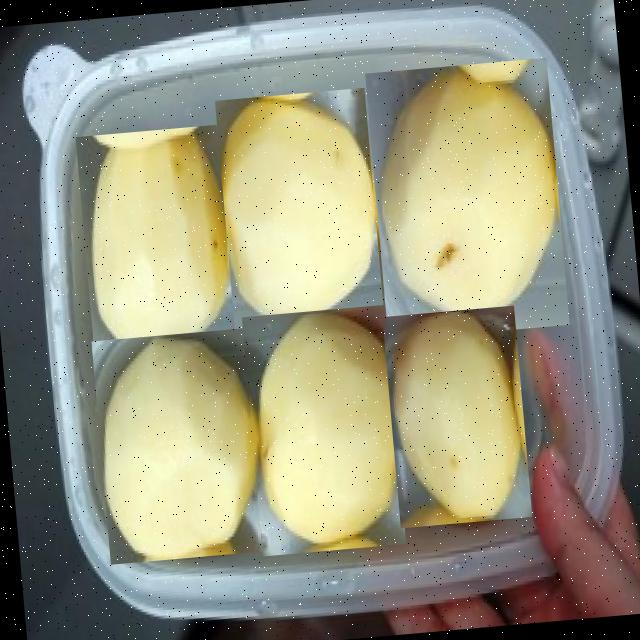Potato: (364, 57, 570, 340), (214, 88, 384, 332), (242, 304, 406, 556), (91, 328, 266, 564), (75, 124, 236, 360), (382, 305, 532, 528)
